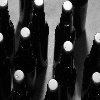beer: (16, 29, 35, 78)
